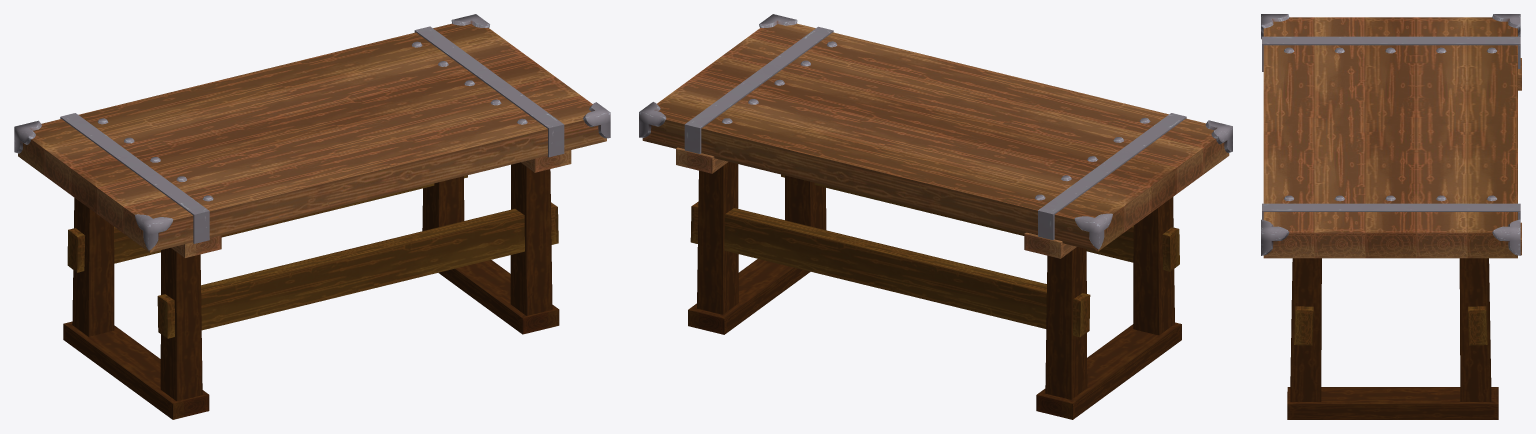
Rendered from Workbench.gltf.
3 views of the same model, side by side, from view 1: azimuth 30°, elevation 25°; view 2: azimuth 150°, elevation 25°; view 3: azimuth 270°, elevation 25° (orthographic). The views are drawn at different scales.
Parts seen in each view (by area): view 1: Workbench; view 2: Workbench; view 3: Workbench.
Boxes of the visible parts, bbox=[...] form: Workbench: bbox=[14, 14, 610, 419]; Workbench: bbox=[639, 14, 1232, 419]; Workbench: bbox=[1261, 14, 1521, 419].
Size of the model in its own units: 2.02 by 0.8946 by 1.02.
Materials: 2 (2 with a texture image).
